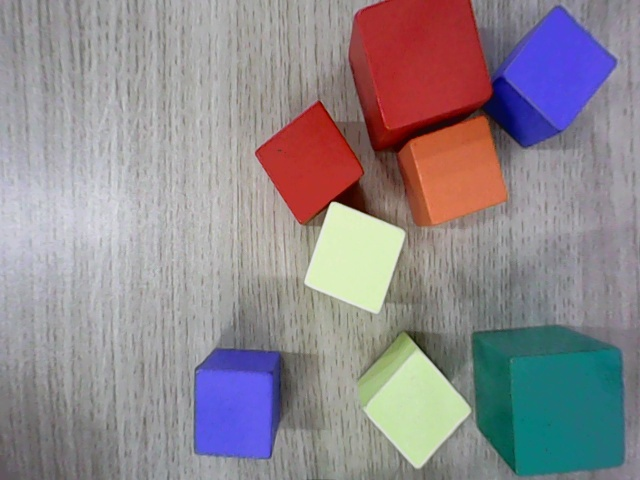upside of big cube: (355, 0, 493, 132), (509, 348, 625, 477)
upside of small cube: (501, 6, 619, 132), (254, 101, 365, 225), (363, 348, 473, 470), (303, 202, 406, 315), (408, 115, 510, 226), (194, 369, 273, 459)
